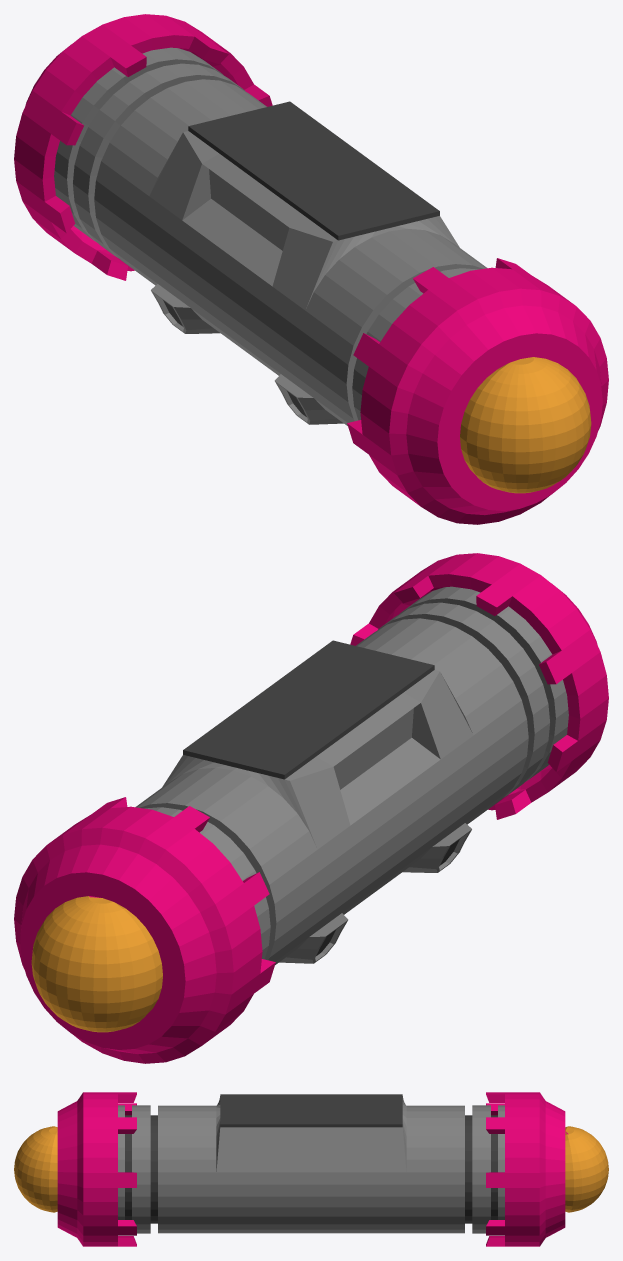
File: jugador.fbx
The picture shows the model from 3 angles, top to bottom: view 1: azimuth 30°, elevation 25°; view 2: azimuth 150°, elevation 25°; view 3: azimuth 270°, elevation 25°; orthographic projection. The views are drawn at different scales.
Visible parts, largest first — view 1: Base, Derecha, Izquierda; view 2: Base, Izquierda, Derecha; view 3: Base, Derecha, Izquierda.
Boxes of the visible parts, <box> form: Base: <box>54,47,487,425</box>; Derecha: <box>347,258,608,524</box>; Izquierda: <box>14,14,272,280</box>; Base: <box>135,586,568,964</box>; Izquierda: <box>14,797,275,1063</box>; Derecha: <box>350,553,608,819</box>; Base: <box>118,1094,504,1233</box>; Derecha: <box>14,1092,136,1246</box>; Izquierda: <box>486,1092,608,1246</box>.
Size of the model in its own units: 121 by 121 by 465.
